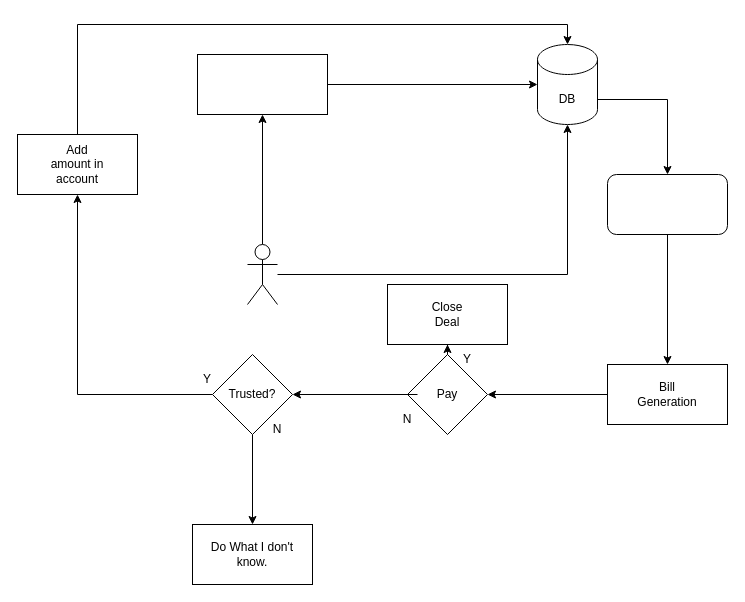
The diagram is 745 pixels wide and 602 high, and some of its shapes have lost their labels. Here are the shapes that lost their labels. From the top down, the centre of each, then its label:
At pixel 262 84: "Items".
At pixel 667 204: "Calculation".
At pixel 262 274: "Actor".
